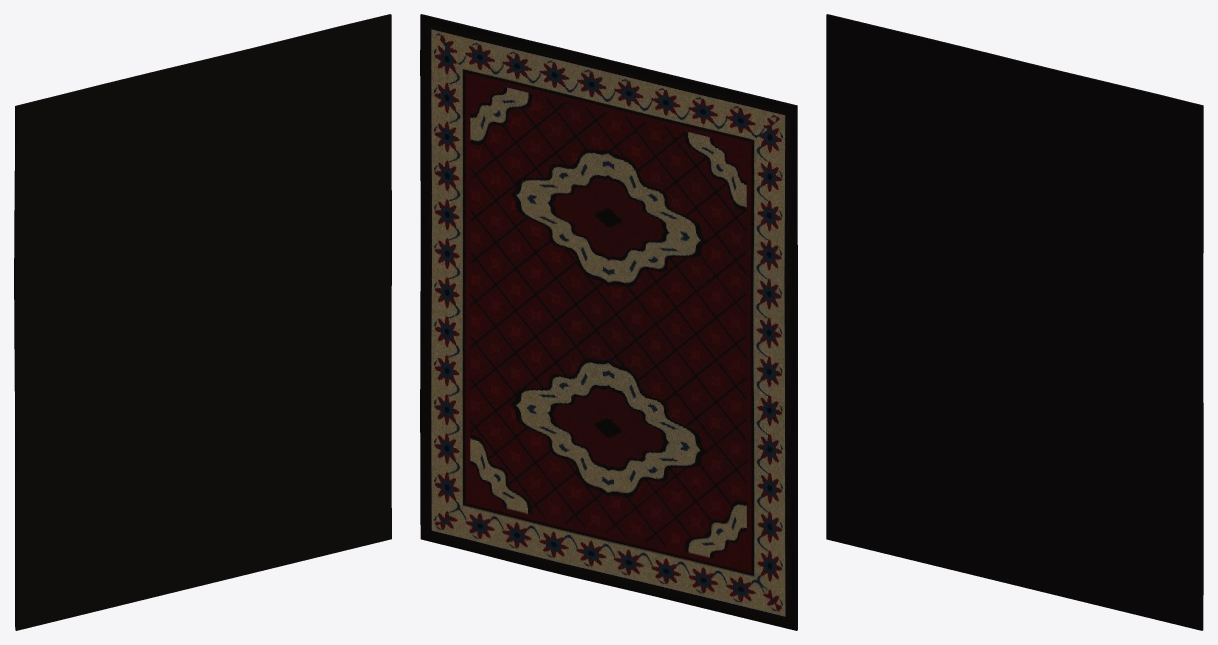
The model's file is carpet_wall_lod1_web.glb.
3 renders of one model, left to right at view 1: azimuth 30°, elevation 25°; view 2: azimuth 150°, elevation 25°; view 3: azimuth 330°, elevation 25°, orthographic.
Parts seen in each view (by area): view 1: CarpetWall_Body; view 2: CarpetWall_Body; view 3: CarpetWall_Body.
Part boxes in pixels (box(x1,y1,x2,y2)): CarpetWall_Body: box(14, 14, 391, 630); CarpetWall_Body: box(420, 14, 797, 630); CarpetWall_Body: box(826, 14, 1203, 630).
Size of the model in its own units: 1.5 by 2 by 0.0156.
Materials: 1 (1 with a texture image).
